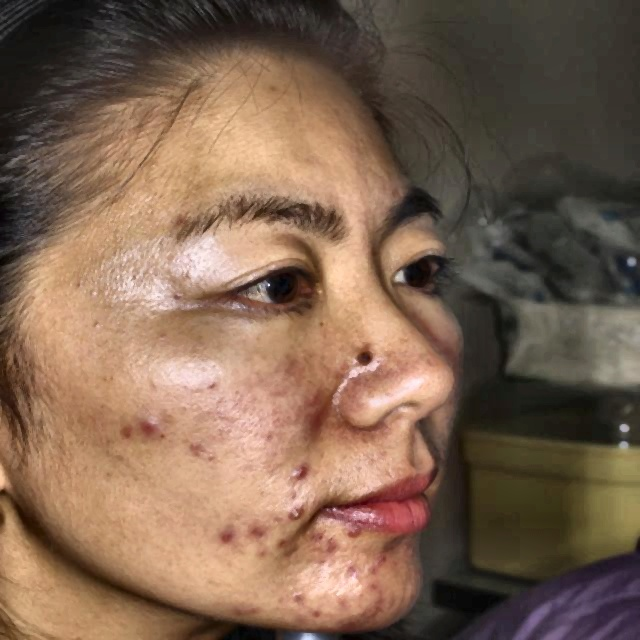pustule: (221, 598, 250, 621), (339, 610, 368, 631), (311, 539, 344, 557), (364, 592, 393, 612), (216, 524, 240, 548), (243, 519, 267, 542), (286, 461, 316, 479), (111, 421, 134, 444), (275, 535, 298, 557), (330, 588, 353, 610), (284, 500, 309, 520), (139, 420, 166, 438), (310, 603, 328, 628), (368, 548, 390, 568), (344, 526, 367, 543), (289, 584, 309, 603), (360, 577, 388, 589)
